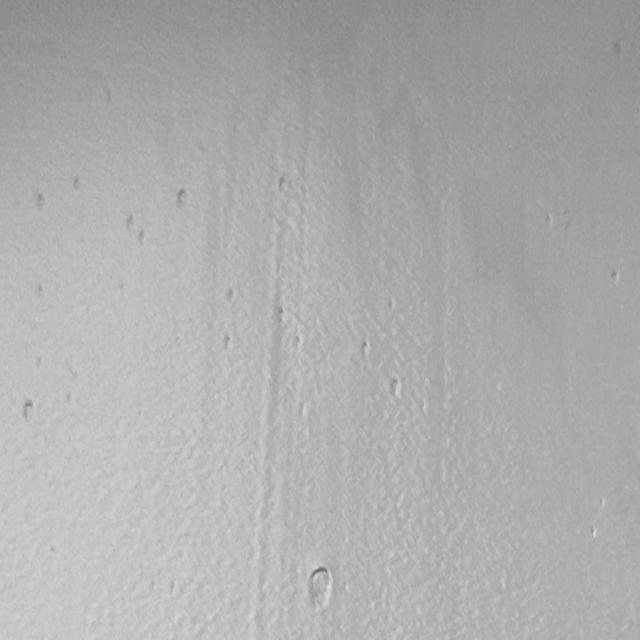pin holes: (304, 564, 338, 610), (19, 397, 40, 426), (174, 186, 194, 210), (609, 40, 628, 63), (358, 340, 376, 364), (273, 175, 291, 199), (389, 375, 405, 400), (295, 399, 311, 423), (540, 214, 557, 232), (221, 334, 236, 354), (70, 175, 85, 195), (274, 304, 289, 324), (124, 214, 138, 235), (36, 192, 50, 211), (136, 228, 149, 248), (63, 390, 76, 410), (292, 334, 306, 352), (610, 268, 623, 286), (36, 285, 49, 302), (226, 288, 238, 306), (384, 296, 396, 314), (35, 356, 48, 372), (587, 524, 599, 540)
